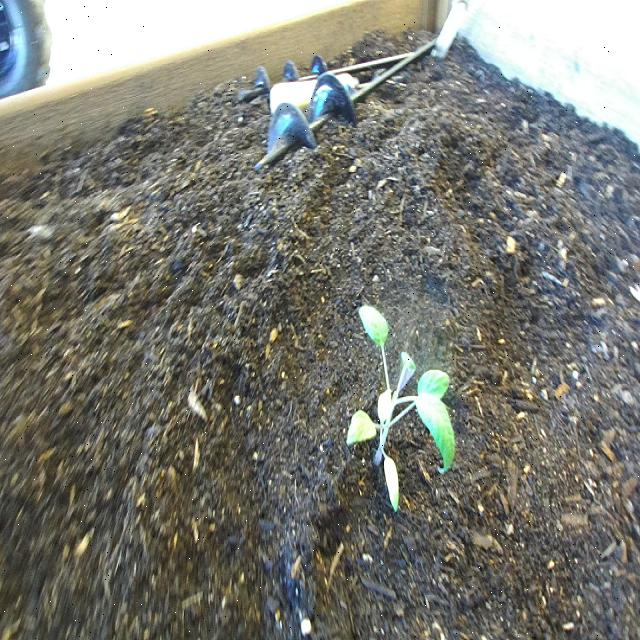Healthy: (344, 297, 458, 516)
